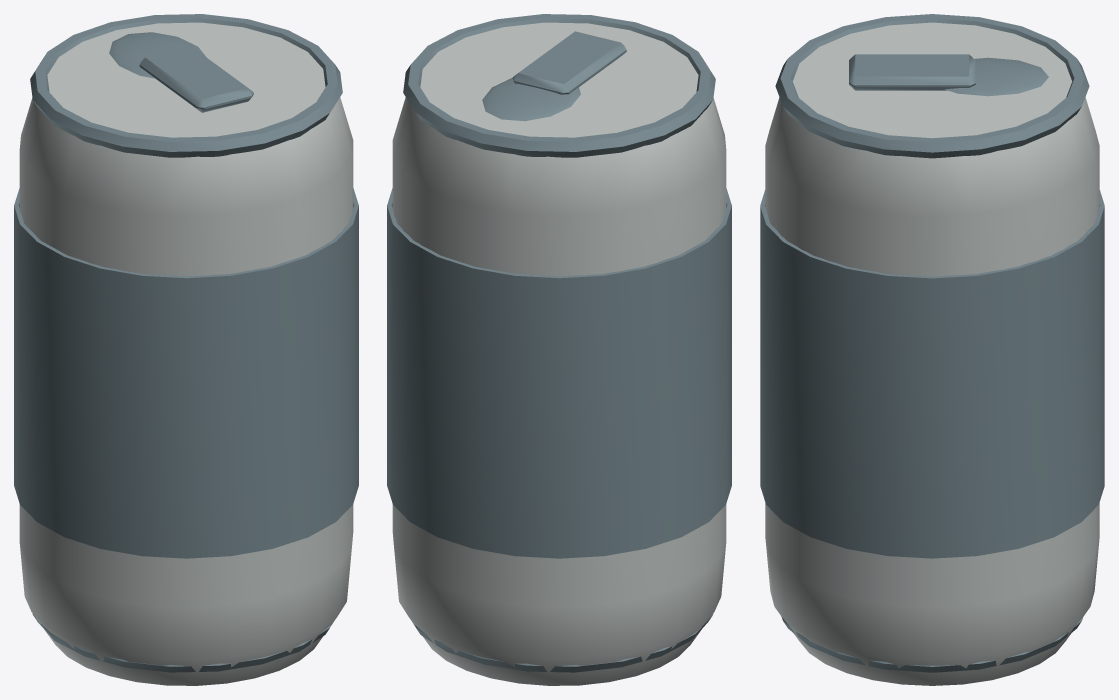
Rendered from soda-can.glb.
3 renders of one model, left to right at view 1: azimuth 30°, elevation 25°; view 2: azimuth 150°, elevation 25°; view 3: azimuth 270°, elevation 25°, orthographic.
Parts seen in each view (by area): view 1: label_band, aluminium_body, rolled_rim.001, pull_tab, opening, rolled_rim; view 2: label_band, aluminium_body, rolled_rim.001, pull_tab, opening, rolled_rim; view 3: label_band, aluminium_body, rolled_rim.001, pull_tab, opening, rolled_rim.
Part boxes in pixels (left/top/right/bottom): label_band: left=14, top=188, right=358, bottom=558; aluminium_body: left=19, top=22, right=353, bottom=685; rolled_rim.001: left=30, top=14, right=342, bottom=157; pull_tab: left=139, top=46, right=253, bottom=112; opening: left=109, top=32, right=205, bottom=78; rolled_rim: left=32, top=614, right=332, bottom=672; label_band: left=387, top=188, right=731, bottom=558; aluminium_body: left=392, top=22, right=726, bottom=685; rolled_rim.001: left=403, top=14, right=715, bottom=157; pull_tab: left=512, top=31, right=626, bottom=94; opening: left=482, top=78, right=580, bottom=121; rolled_rim: left=413, top=614, right=713, bottom=672; label_band: left=760, top=190, right=1104, bottom=558; aluminium_body: left=765, top=22, right=1099, bottom=685; rolled_rim.001: left=775, top=14, right=1089, bottom=158; pull_tab: left=849, top=54, right=975, bottom=90; opening: left=945, top=57, right=1048, bottom=96; rolled_rim: left=781, top=616, right=1083, bottom=672.
Bounding box in the file's own units: 0.068 × 0.1225 × 0.068.
